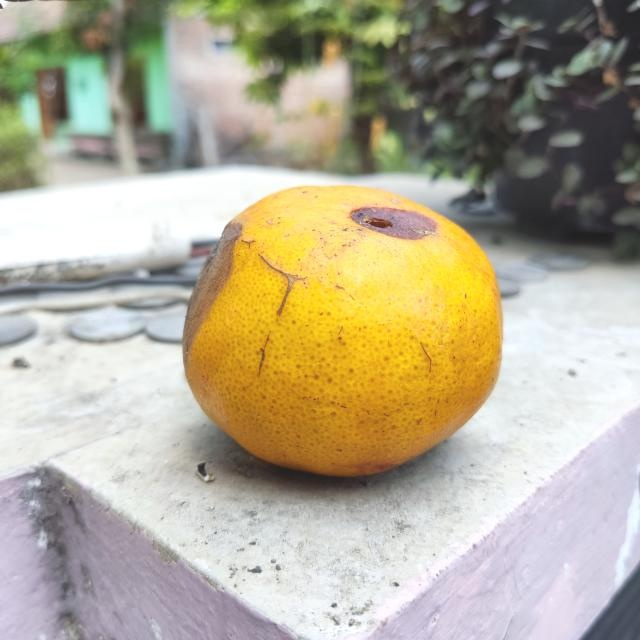agrume: (182, 181, 506, 479)
